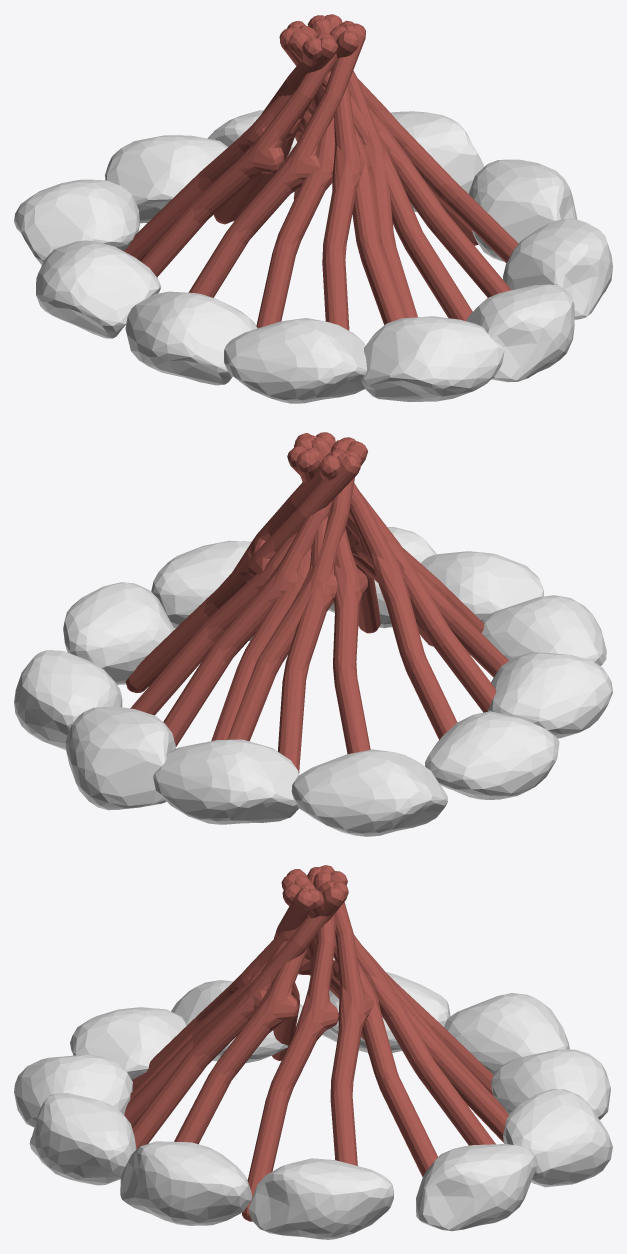
The model's file is campfire.fbx.
3 views of the same model, one above another, from view 1: azimuth 30°, elevation 25°; view 2: azimuth 150°, elevation 25°; view 3: azimuth 270°, elevation 25° (orthographic). The views are drawn at different scales.
Visible parts, largest first — view 1: Rocks, Sticks; view 2: Rocks, Sticks; view 3: Rocks, Sticks.
Boxes of the visible parts, x1,y1,x2,y2 form: Rocks: [14, 110, 612, 403]; Sticks: [124, 14, 518, 330]; Rocks: [14, 527, 612, 836]; Sticks: [125, 432, 508, 772]; Rocks: [14, 972, 612, 1239]; Sticks: [124, 865, 508, 1221].
Size of the model in its own units: 503 by 265 by 545.
